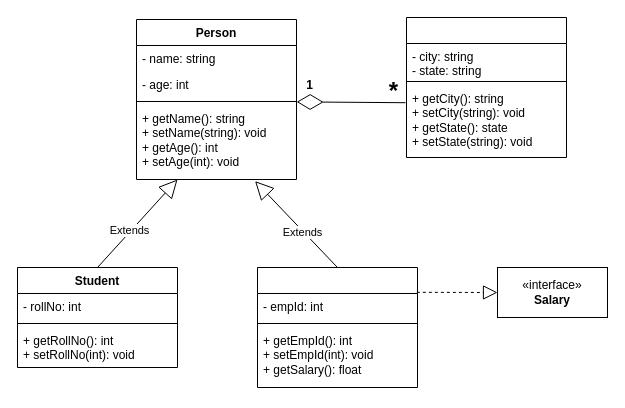
Image size: 625x408. Some labels were removed from this diagram. Here are the shapes that lost their labels. From the top down, the box of each, then its label:
(406, 16, 566, 158): Address
(256, 266, 418, 388): Teacher
